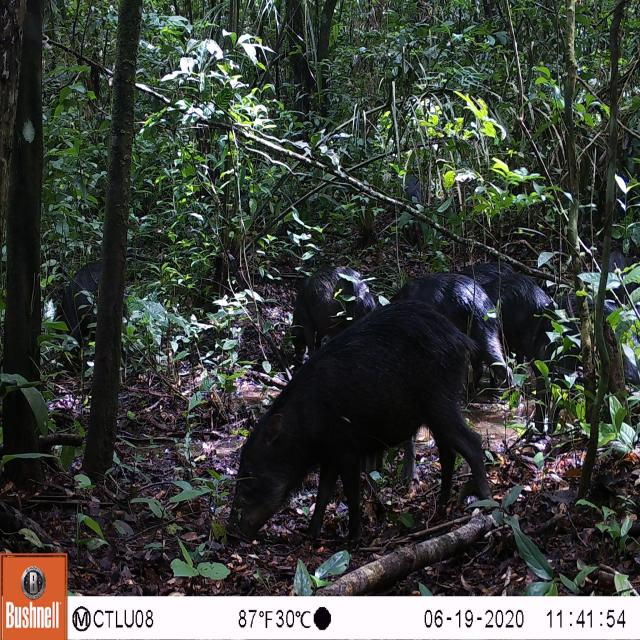Collared Peccary: (228, 254, 507, 561), (416, 227, 640, 403), (270, 240, 390, 356), (49, 242, 136, 354), (372, 168, 431, 225)
